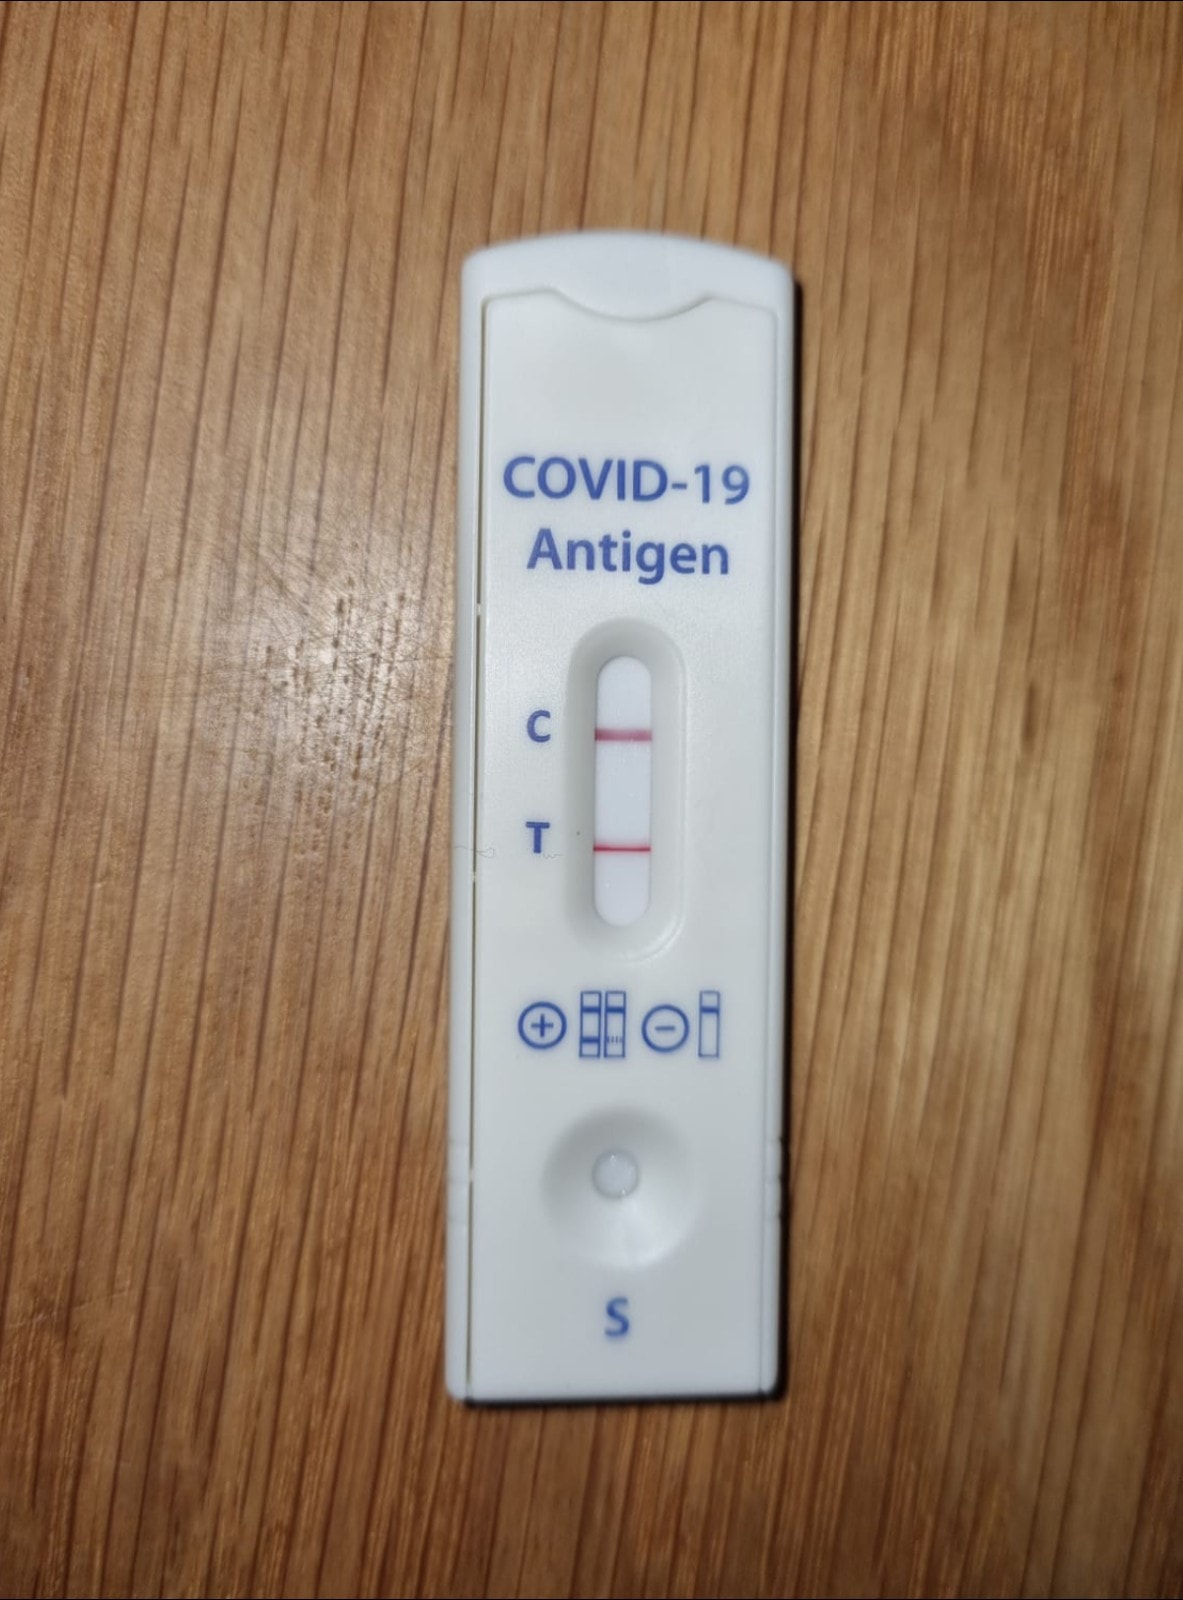positive: (560, 636, 683, 939)
